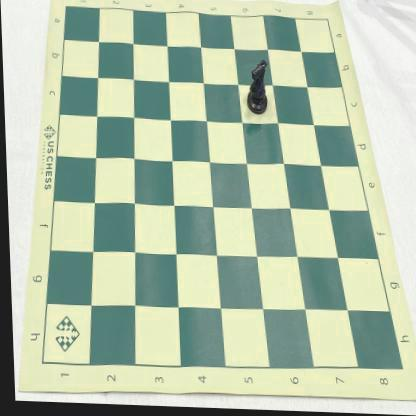black-knight: (244, 60, 268, 117)
